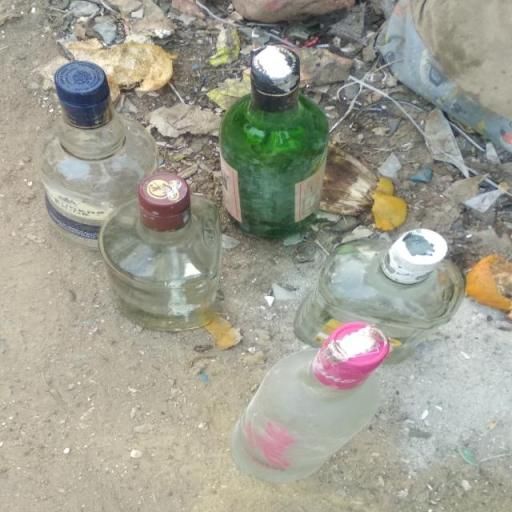glass: (221, 314, 404, 496), (24, 54, 179, 256), (276, 221, 480, 374), (84, 170, 243, 341), (208, 38, 338, 243)
